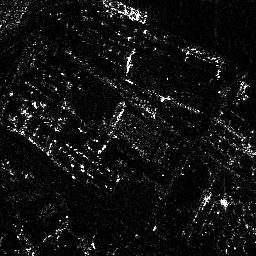ship: (102, 1, 149, 24)
